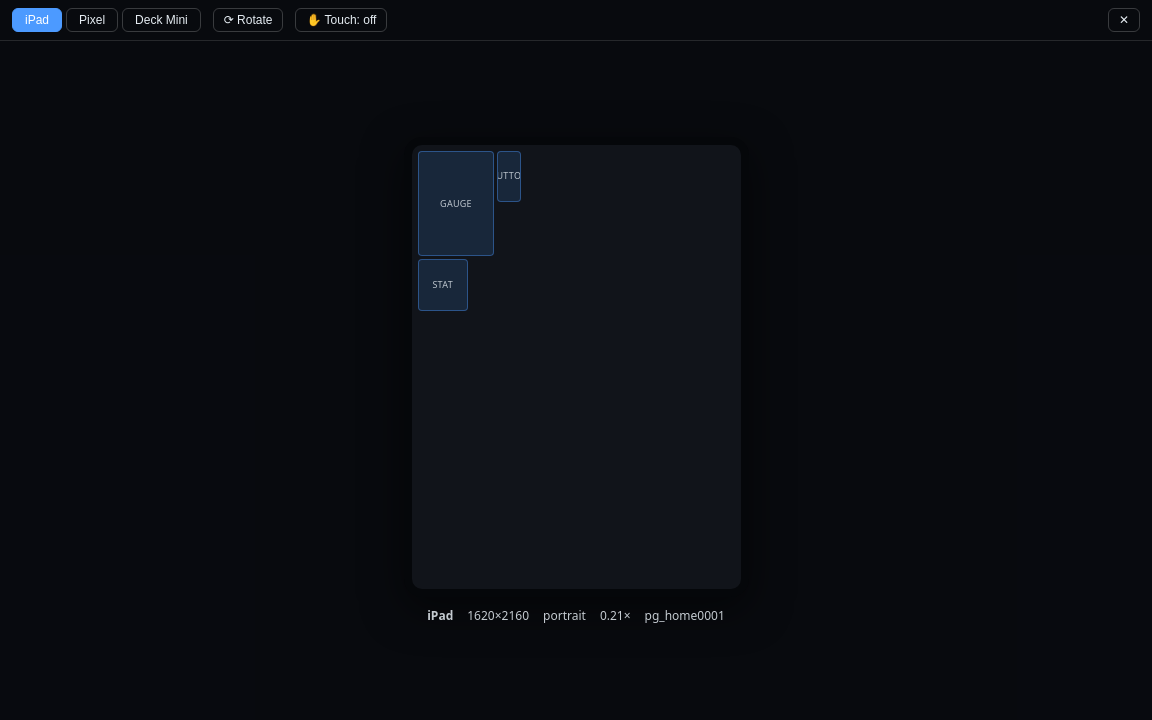
Test: PreviewScreen (CD-417) › selects a device and rotates orientation
The image size is (1152, 720).
Expected: the element with test id "preview-ipad-portrait" is shown, [404, 136, 748, 624]
Click the tab "Pixel": coordinates (92, 20) [66, 8, 118, 32]
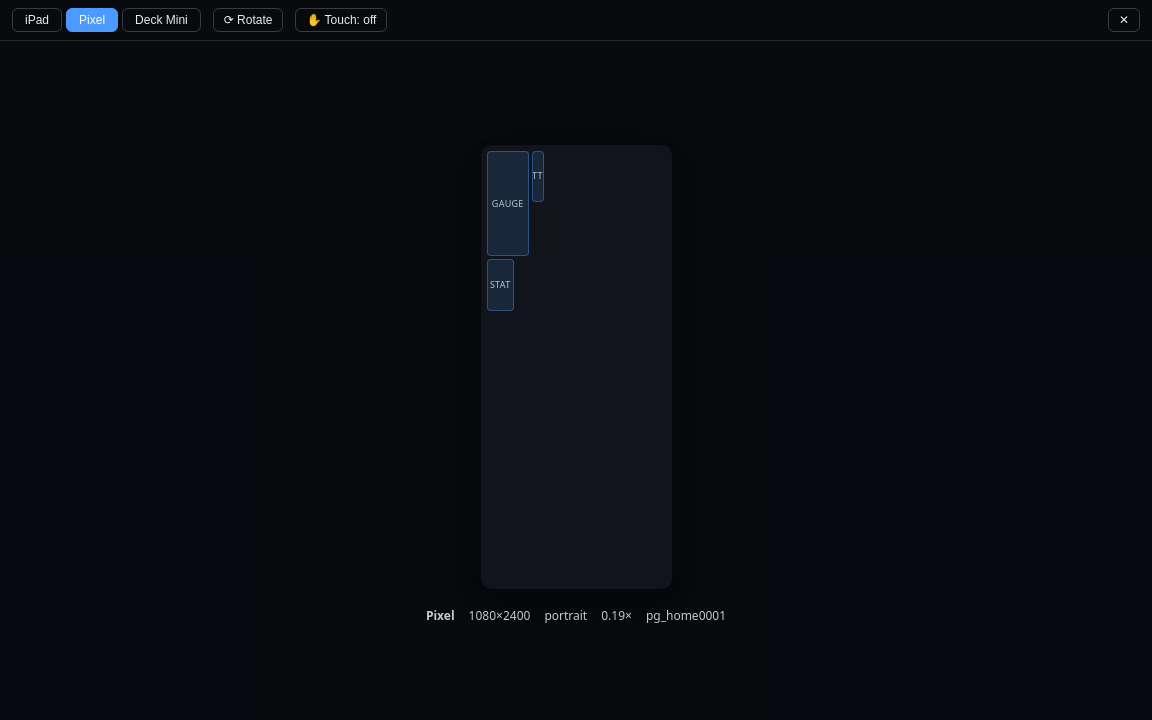
Expected: the element with test id "preview-pixel-portrait" is shown, [426, 136, 726, 624]
Click the button "⟳ Rotate": coordinates (248, 20) [213, 8, 284, 32]
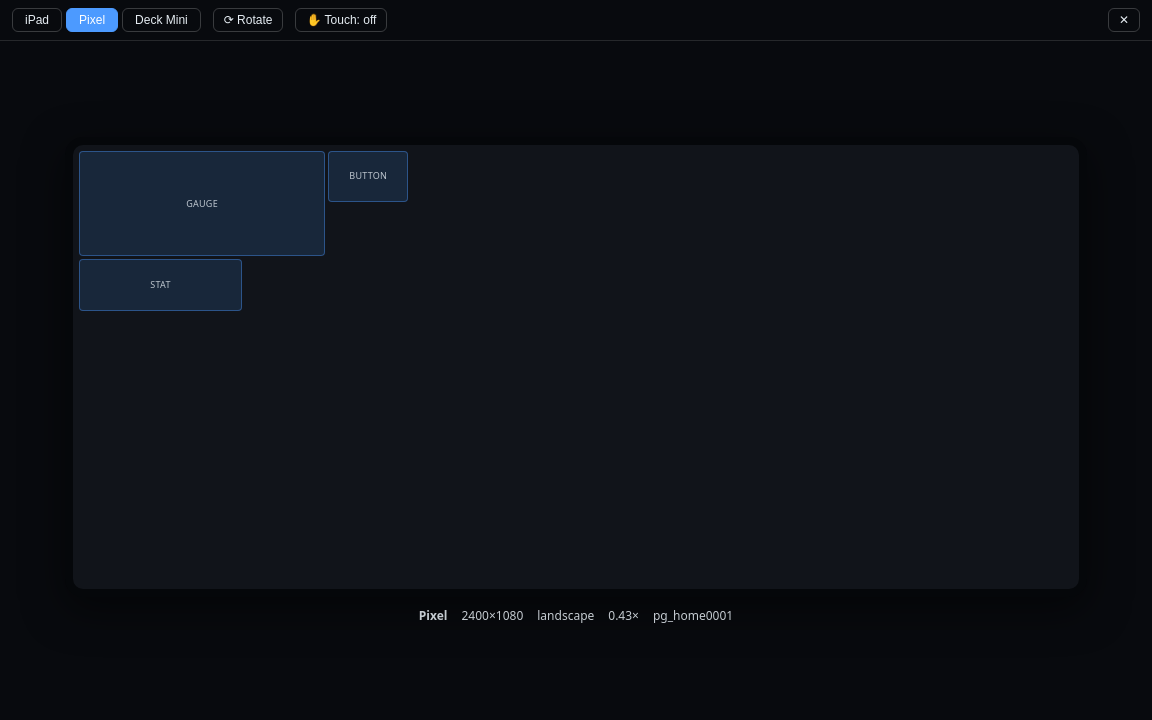
Expected: the element with test id "preview-pixel-landscape" is shown
